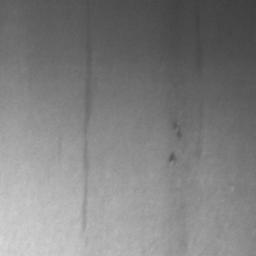Inclusion: (83, 35, 93, 134)
